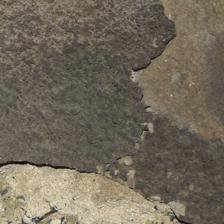Crack: (129, 5, 218, 145), (3, 160, 182, 222)
